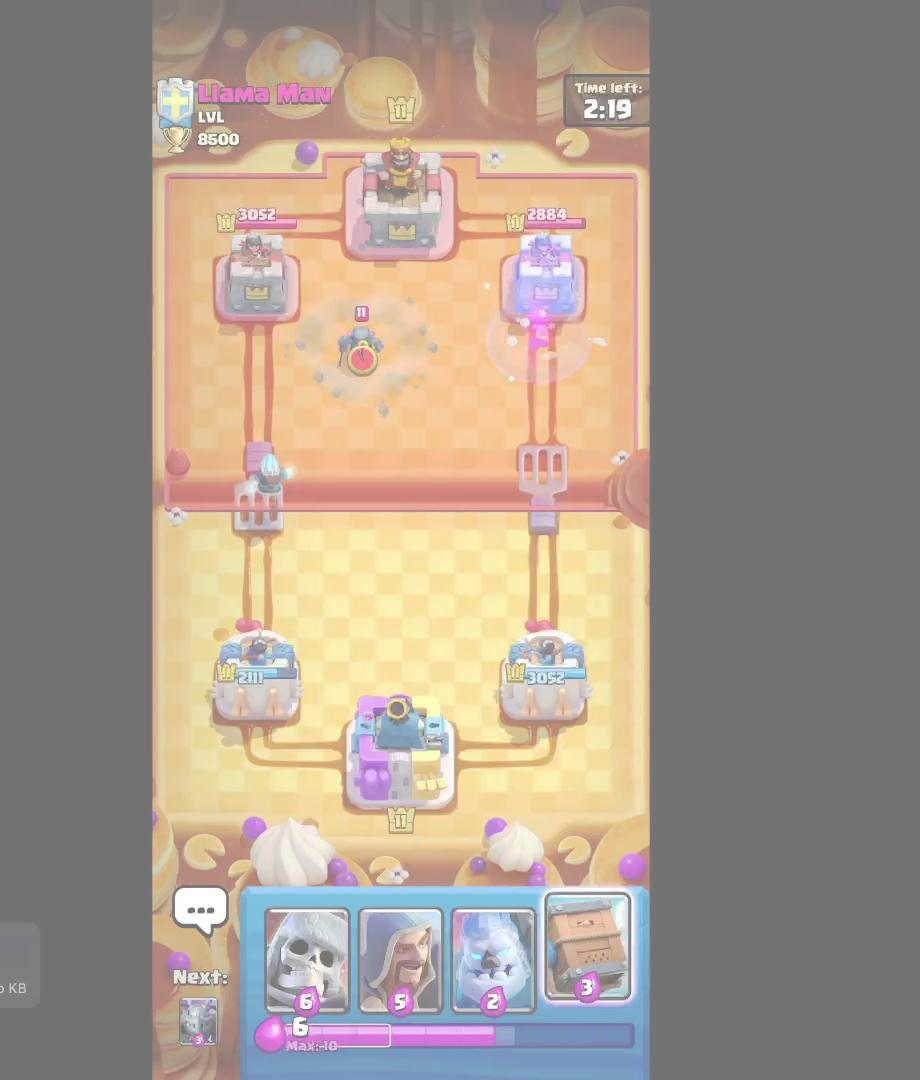Mini Pekka: (328, 299, 403, 383)
